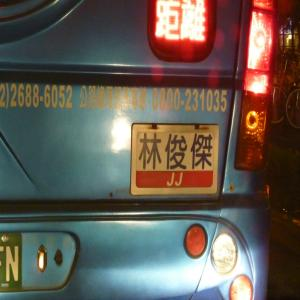Vehicle-registration-plate: (126, 109, 225, 202), (1, 231, 24, 289)
